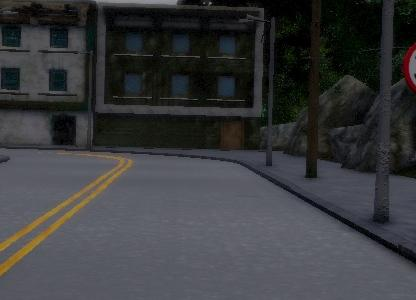Speed_30: (401, 31, 416, 101)
